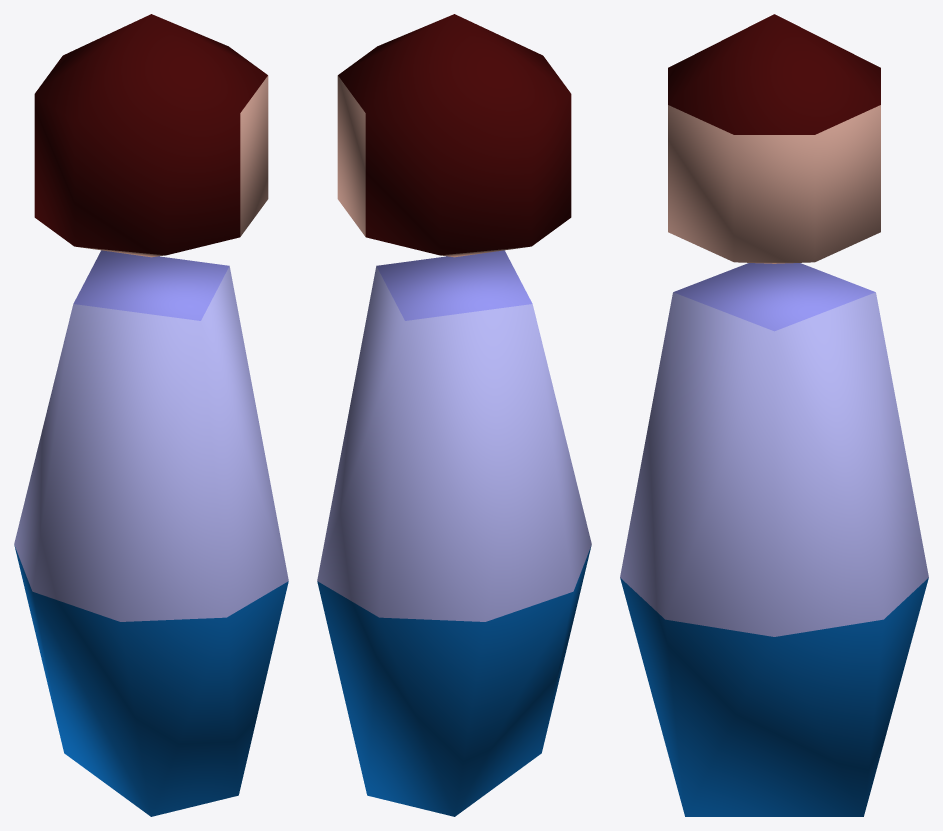
Rendered from SM_Character_01.fbx.
3 views of the same model, side by side, from view 1: azimuth 30°, elevation 25°; view 2: azimuth 150°, elevation 25°; view 3: azimuth 270°, elevation 25° (orthographic). The views are drawn at different scales.
Parts seen in each view (by area): view 1: SM_Character_LOD0; view 2: SM_Character_LOD0; view 3: SM_Character_LOD0.
Boxes of the visible parts, <box> form: SM_Character_LOD0: <box>14,14,288,816</box>; SM_Character_LOD0: <box>317,14,591,816</box>; SM_Character_LOD0: <box>620,14,928,816</box>.
Size of what is drawn, in the model's own units: 1.12 by 3.41 by 1.22.
